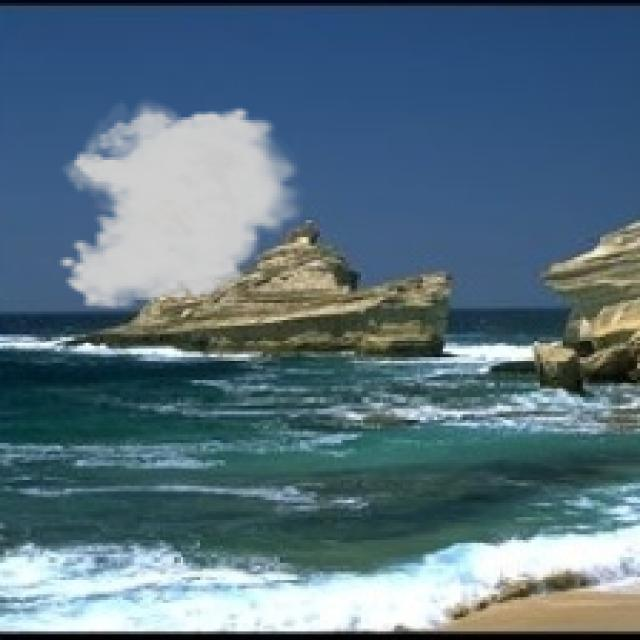smoke: (57, 95, 309, 312)
